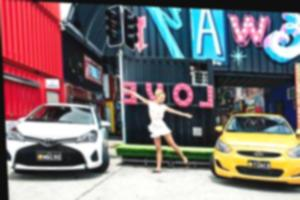License_Plate: (34, 148, 65, 164), (244, 159, 273, 171)
